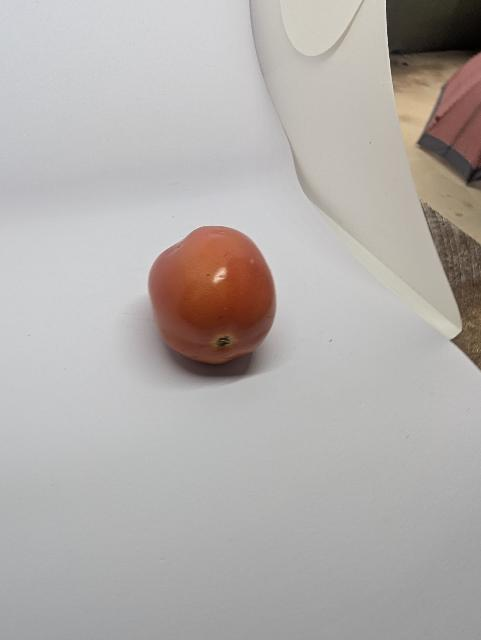red: (127, 213, 300, 381)
